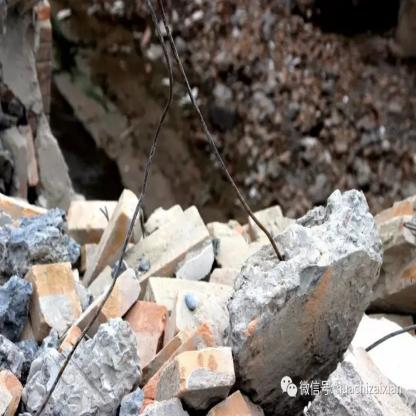rebar: (34, 0, 286, 415)
